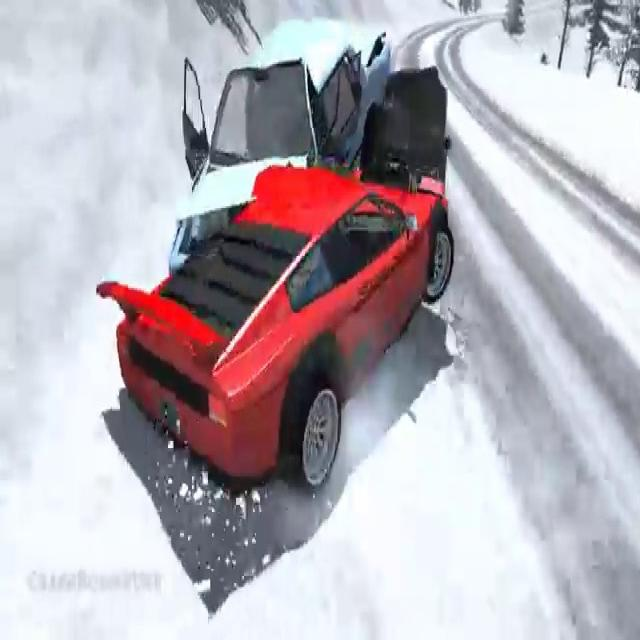severe: (88, 8, 457, 500)
